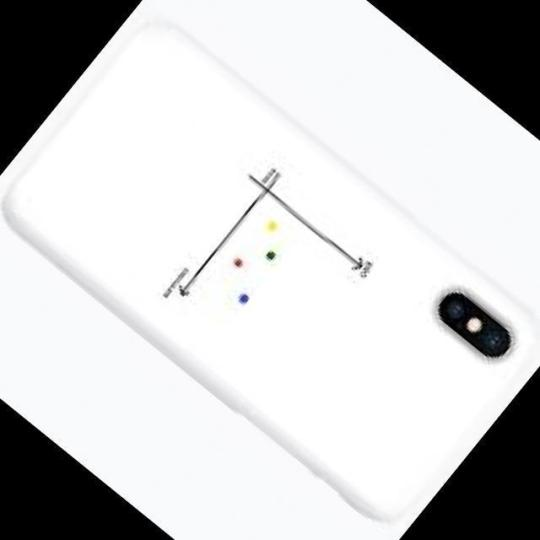phone: (1, 23, 540, 538)
